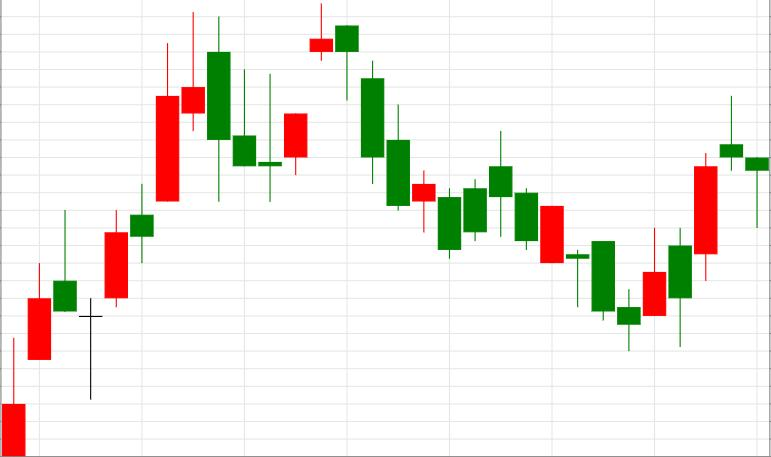shooting_star_fall: (79, 13, 204, 400)
